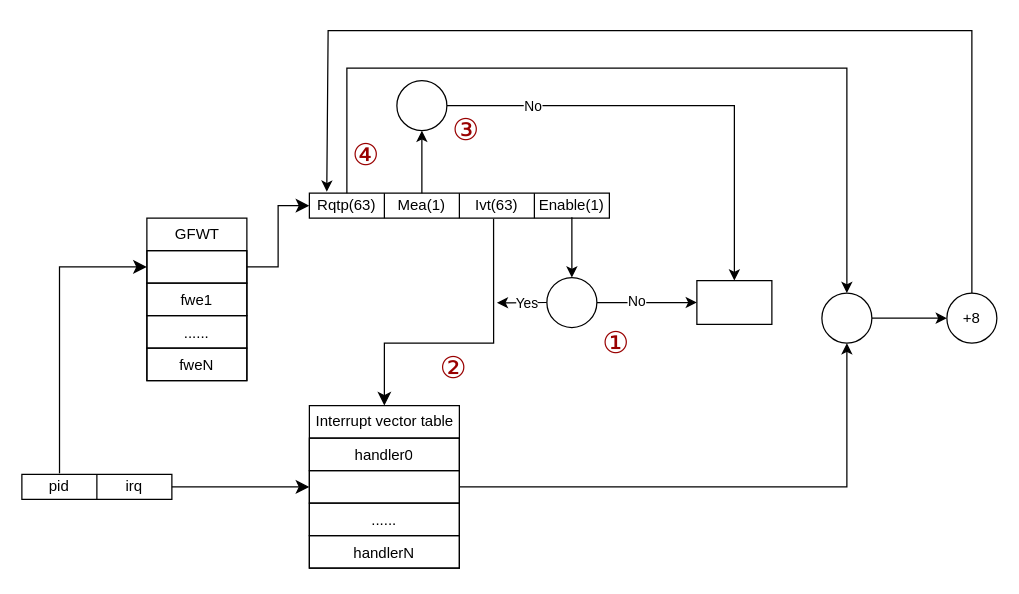
Image size: 1019x594. Some labels were removed from this diagram. The centre of each missing label's shape, as x and y in pixels:
"End" goes at point (734, 301).
"fwe0" goes at point (196, 266).
"handler1" goes at point (383, 486).
"Write Mem" goes at point (846, 317).
